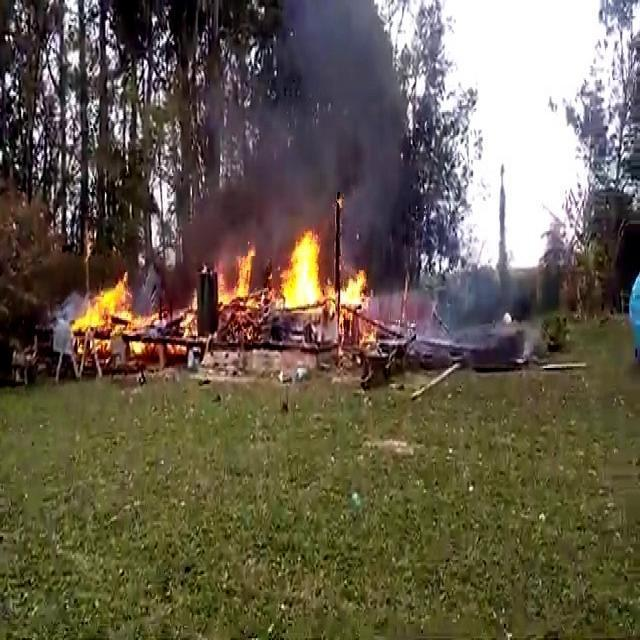Fire: (215, 0, 438, 245), (280, 228, 362, 326), (74, 264, 151, 356), (218, 245, 258, 323)
Smoke: (416, 241, 499, 367)
